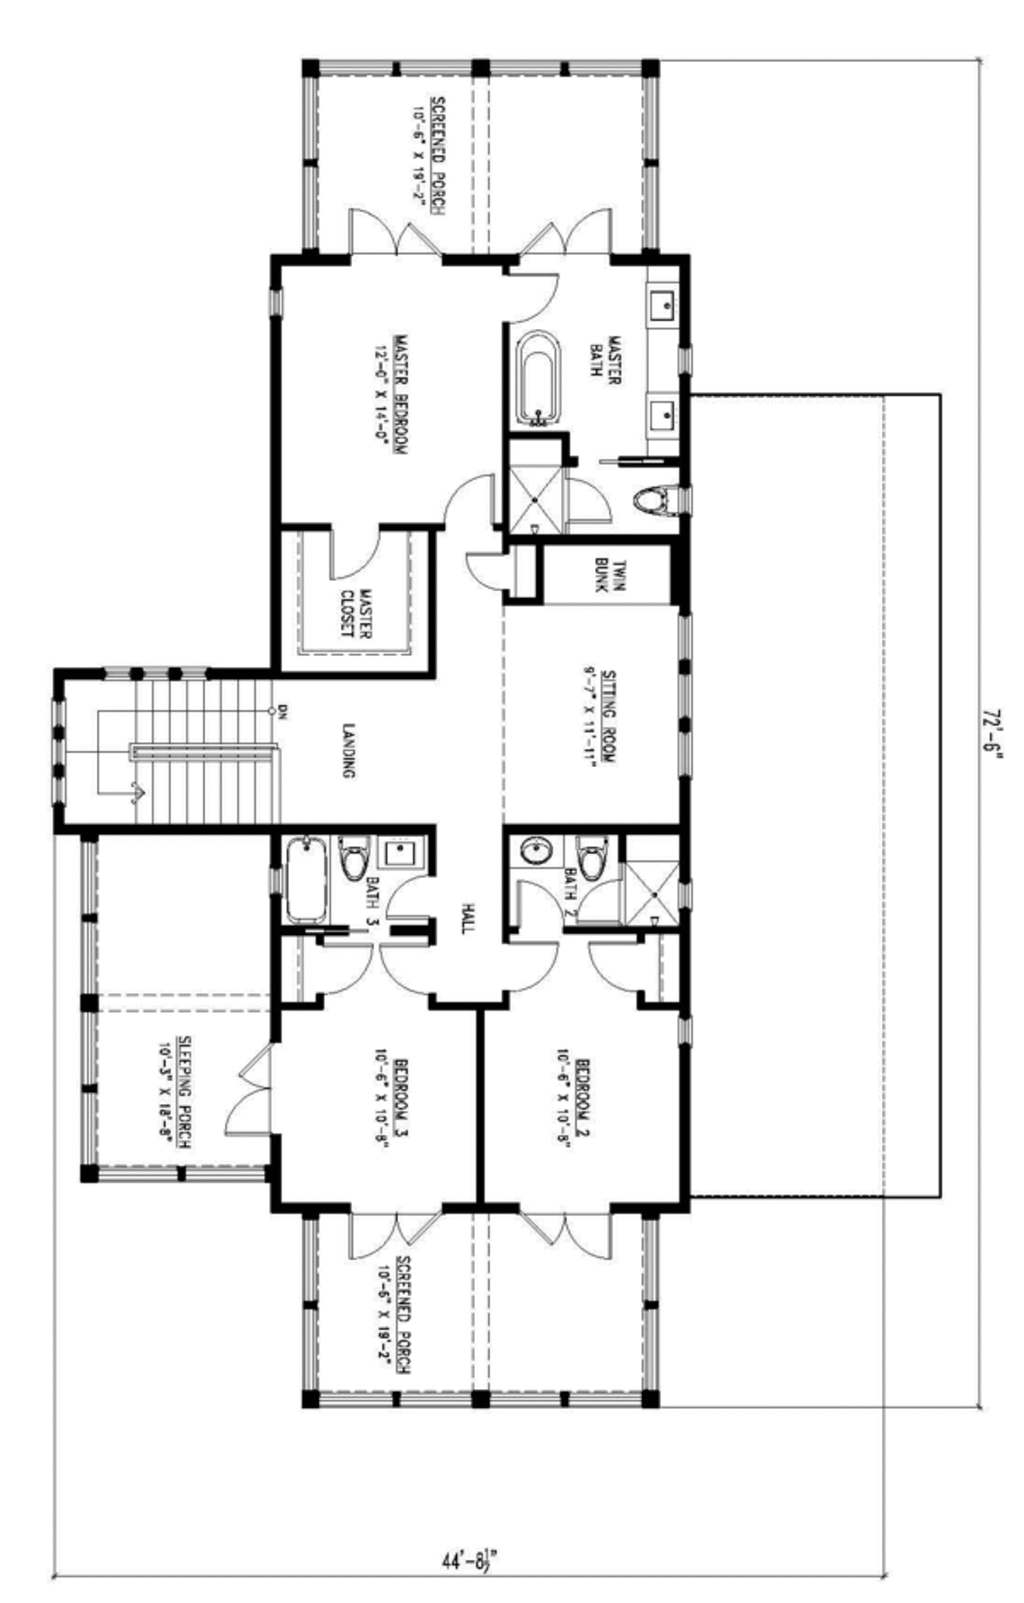door: (343, 204, 448, 268), (516, 1205, 616, 1267), (508, 203, 614, 259), (214, 1045, 275, 1140), (343, 1206, 442, 1262), (494, 935, 559, 995), (508, 873, 569, 937), (438, 469, 496, 535), (318, 522, 381, 580), (375, 941, 435, 1000), (499, 268, 562, 322), (314, 945, 372, 1005), (586, 942, 646, 995), (563, 474, 616, 530), (382, 873, 436, 922), (468, 547, 508, 596)
large_sink: (630, 474, 687, 518), (569, 830, 614, 884), (335, 827, 374, 884)
small_sink: (638, 275, 689, 335), (501, 830, 567, 873), (641, 390, 681, 444), (375, 832, 428, 873)
stairs: (62, 674, 286, 832)
tub: (511, 327, 572, 451), (281, 830, 335, 923)
windows: (674, 612, 699, 783)
